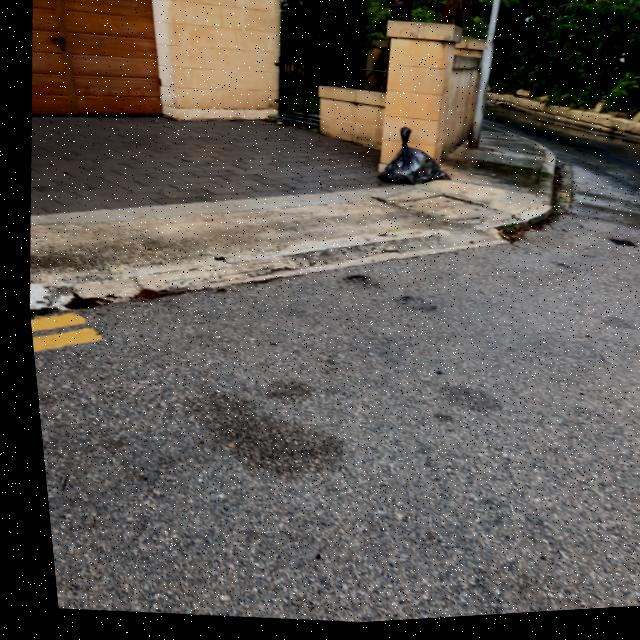Mixed Waste -Black Bag-: (372, 128, 447, 196)
